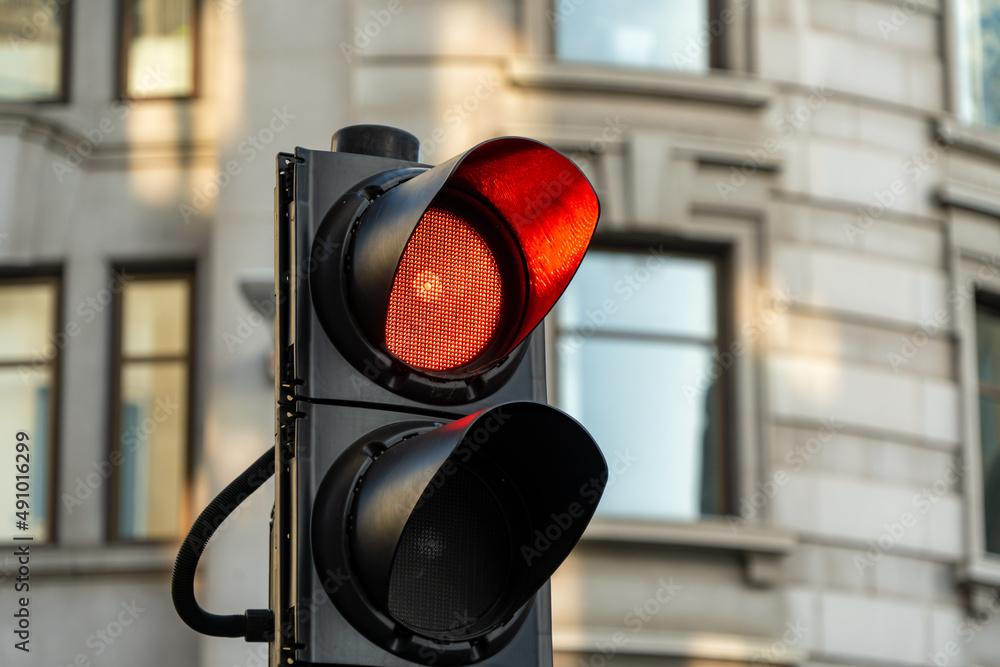red: (247, 118, 595, 667)
